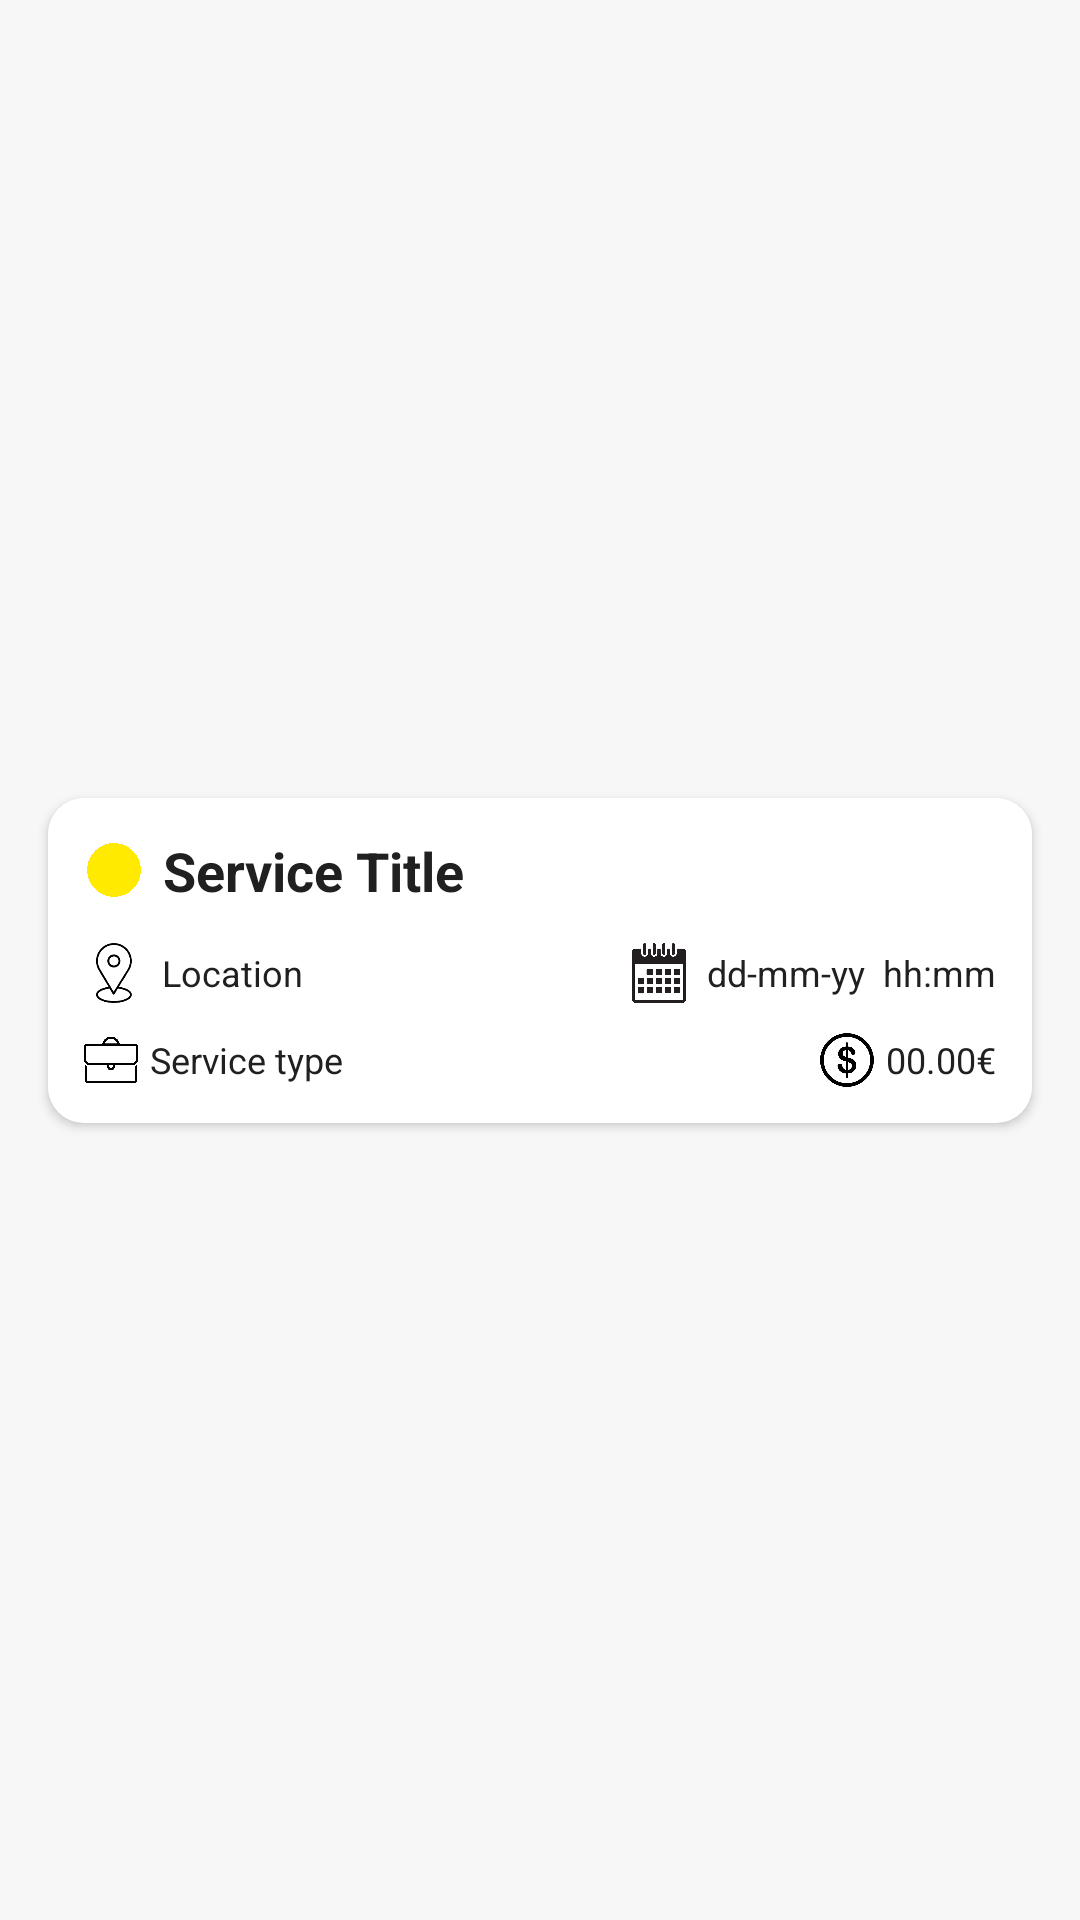

Icons on this 1080px x 1920px Android screen, each with its box as BBox(x1, y1, x2, y2):
calendar: BBox(632, 943, 686, 1003)
price: BBox(820, 1033, 874, 1087)
